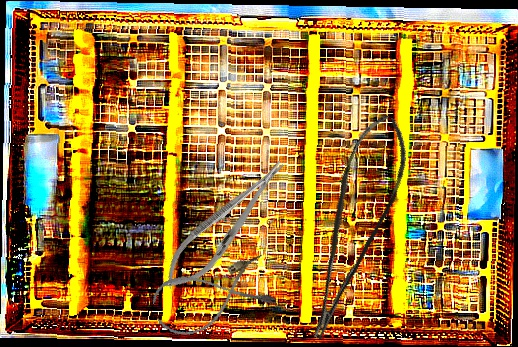Cannula: (148, 252, 278, 342)
Micro Scissor: (272, 107, 427, 344)
Needle Holder: (151, 149, 298, 302)
